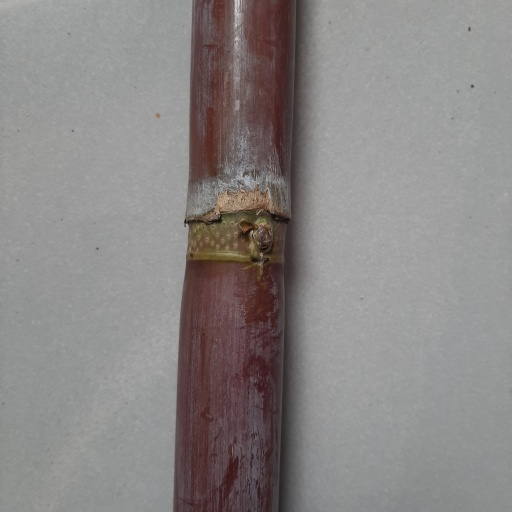Bud: (253, 223, 274, 253)
